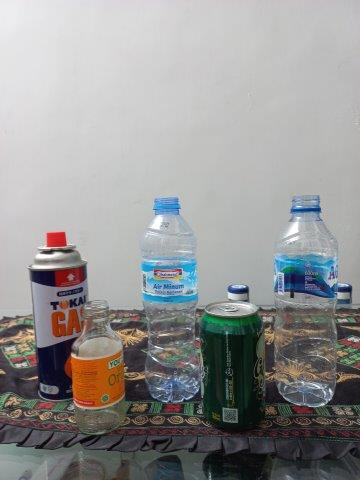botolkaca: (72, 302, 126, 430)
botolplastik: (275, 196, 337, 406), (143, 195, 202, 402)
kaleng: (28, 232, 87, 401), (199, 303, 266, 431)
